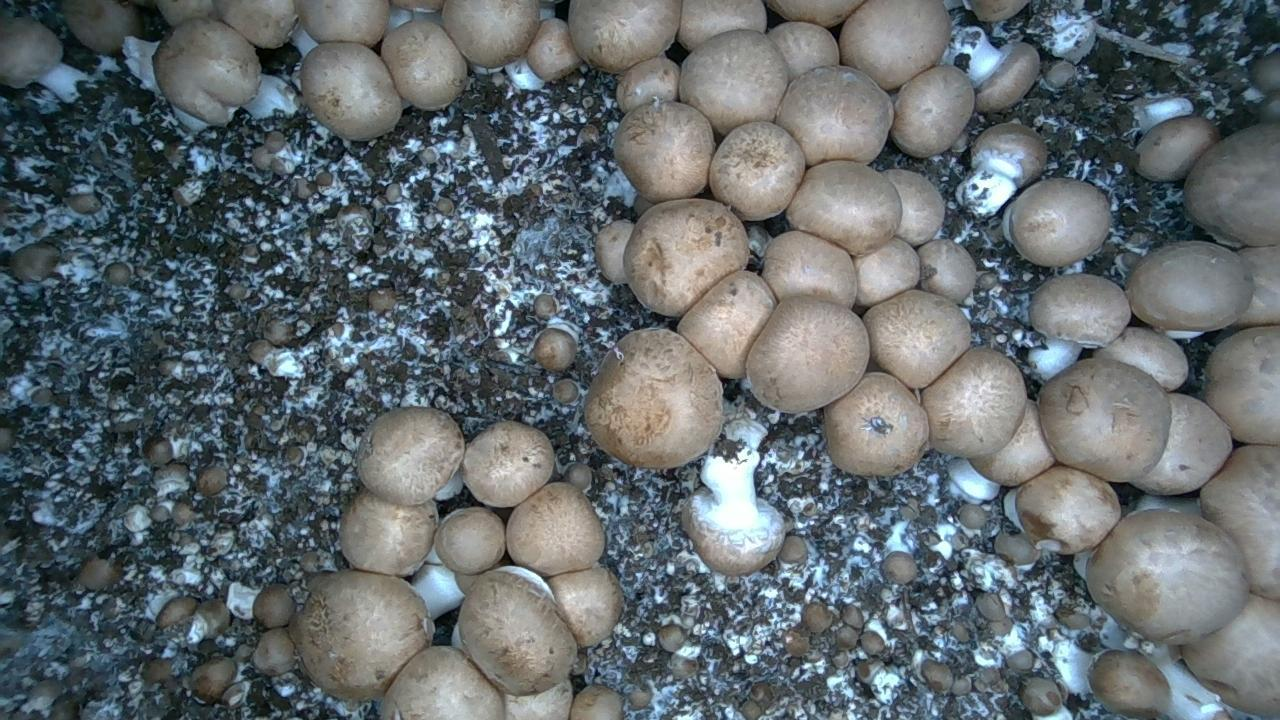BB: (1086, 510, 1248, 644), (585, 329, 722, 468), (1038, 358, 1170, 481), (458, 567, 577, 695), (623, 199, 749, 315), (746, 296, 869, 412), (1200, 445, 1279, 598), (1181, 594, 1279, 716), (1184, 123, 1279, 246), (775, 66, 893, 165), (1126, 241, 1254, 331), (921, 347, 1025, 457), (153, 19, 260, 125), (679, 30, 788, 134), (824, 372, 928, 475), (786, 161, 901, 254), (863, 289, 970, 388), (357, 407, 464, 505), (678, 270, 775, 378), (1131, 393, 1231, 494), (614, 101, 714, 201), (300, 42, 401, 140), (839, 0, 950, 89), (1004, 178, 1110, 266), (709, 121, 804, 219), (1017, 464, 1120, 554), (506, 482, 604, 576), (382, 646, 504, 719), (1205, 326, 1279, 444), (339, 488, 437, 575), (681, 495, 784, 575), (568, 0, 681, 72), (461, 421, 554, 506), (890, 65, 974, 157), (381, 20, 467, 109), (1030, 273, 1130, 347), (970, 400, 1054, 486), (762, 231, 857, 307), (442, 0, 540, 67), (547, 567, 623, 646), (1093, 327, 1188, 390), (1089, 650, 1170, 718), (1136, 115, 1220, 180), (434, 507, 505, 573), (883, 169, 944, 245), (853, 238, 919, 307), (975, 42, 1039, 112), (677, 0, 766, 50), (61, 0, 143, 54), (294, 0, 389, 46), (768, 22, 838, 80), (213, 0, 296, 48), (1234, 245, 1279, 328), (917, 239, 975, 302), (526, 18, 581, 81), (616, 57, 679, 112)
